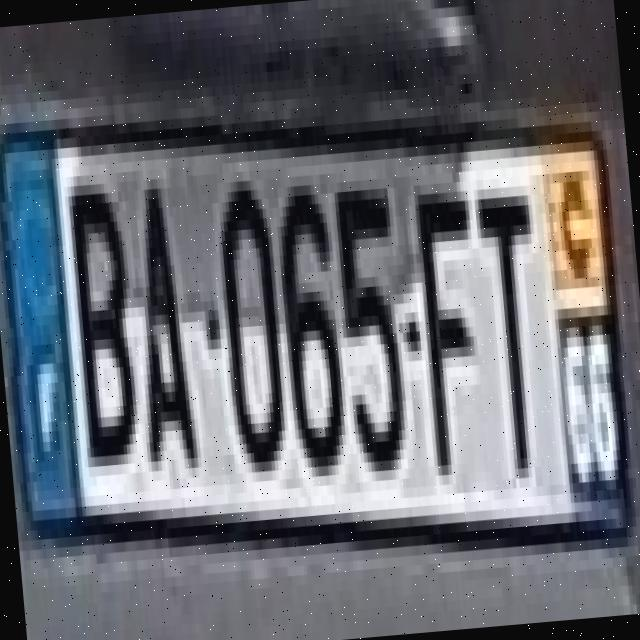EU: (0, 75, 638, 594)
France: (0, 138, 85, 546)
